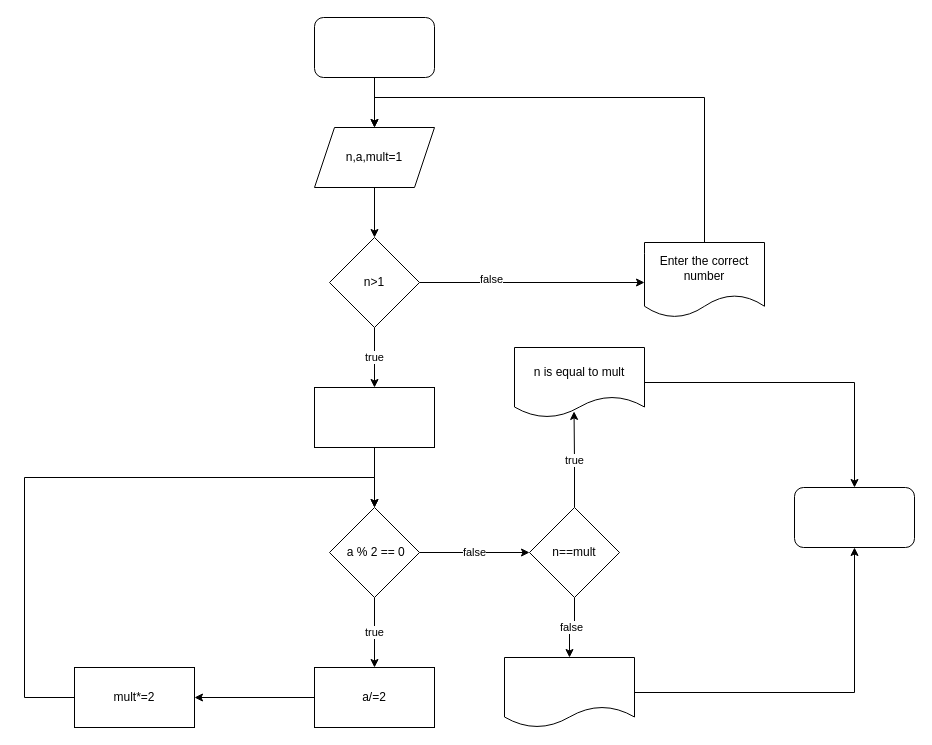
Image size: 932x745. Some labels were removed from this diagram. The centre of each missing label's shape, as x and y in pixels:
a=n: (x=374, y=417)
end: (x=854, y=517)
n is not equal to mult: (x=569, y=692)
start: (x=374, y=47)
